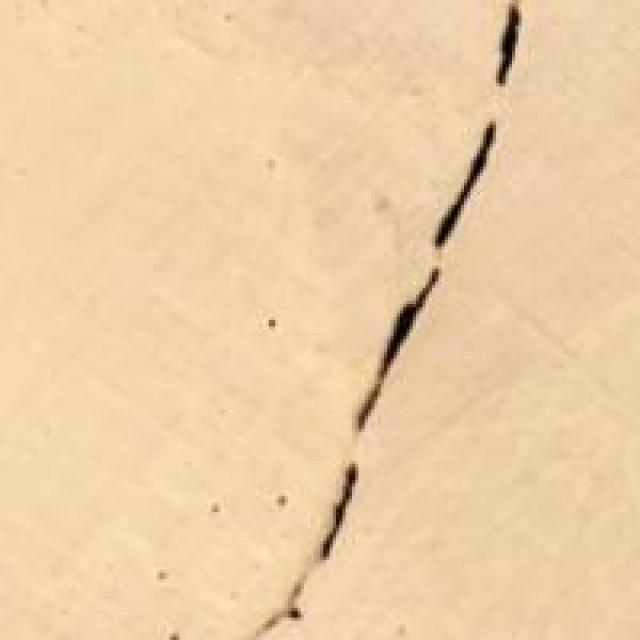crack: (250, 0, 547, 637)
